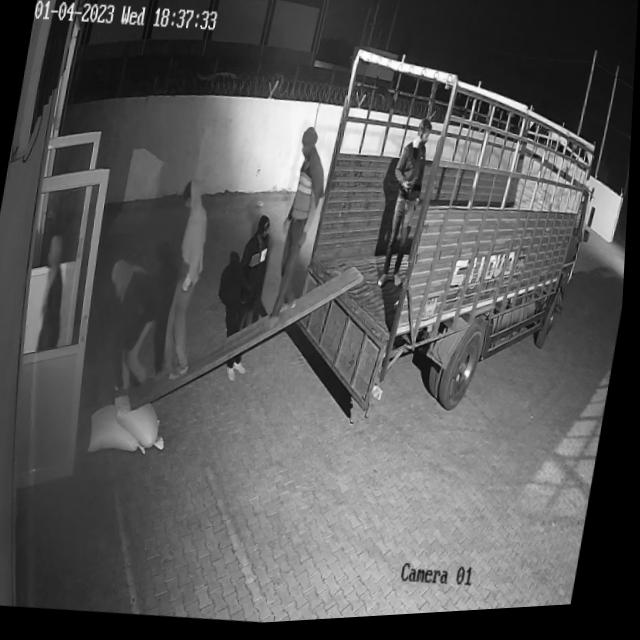sack: (109, 391, 178, 455), (89, 401, 157, 460)
